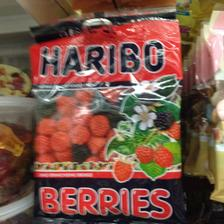Suessigkeit: (30, 15, 184, 221)
